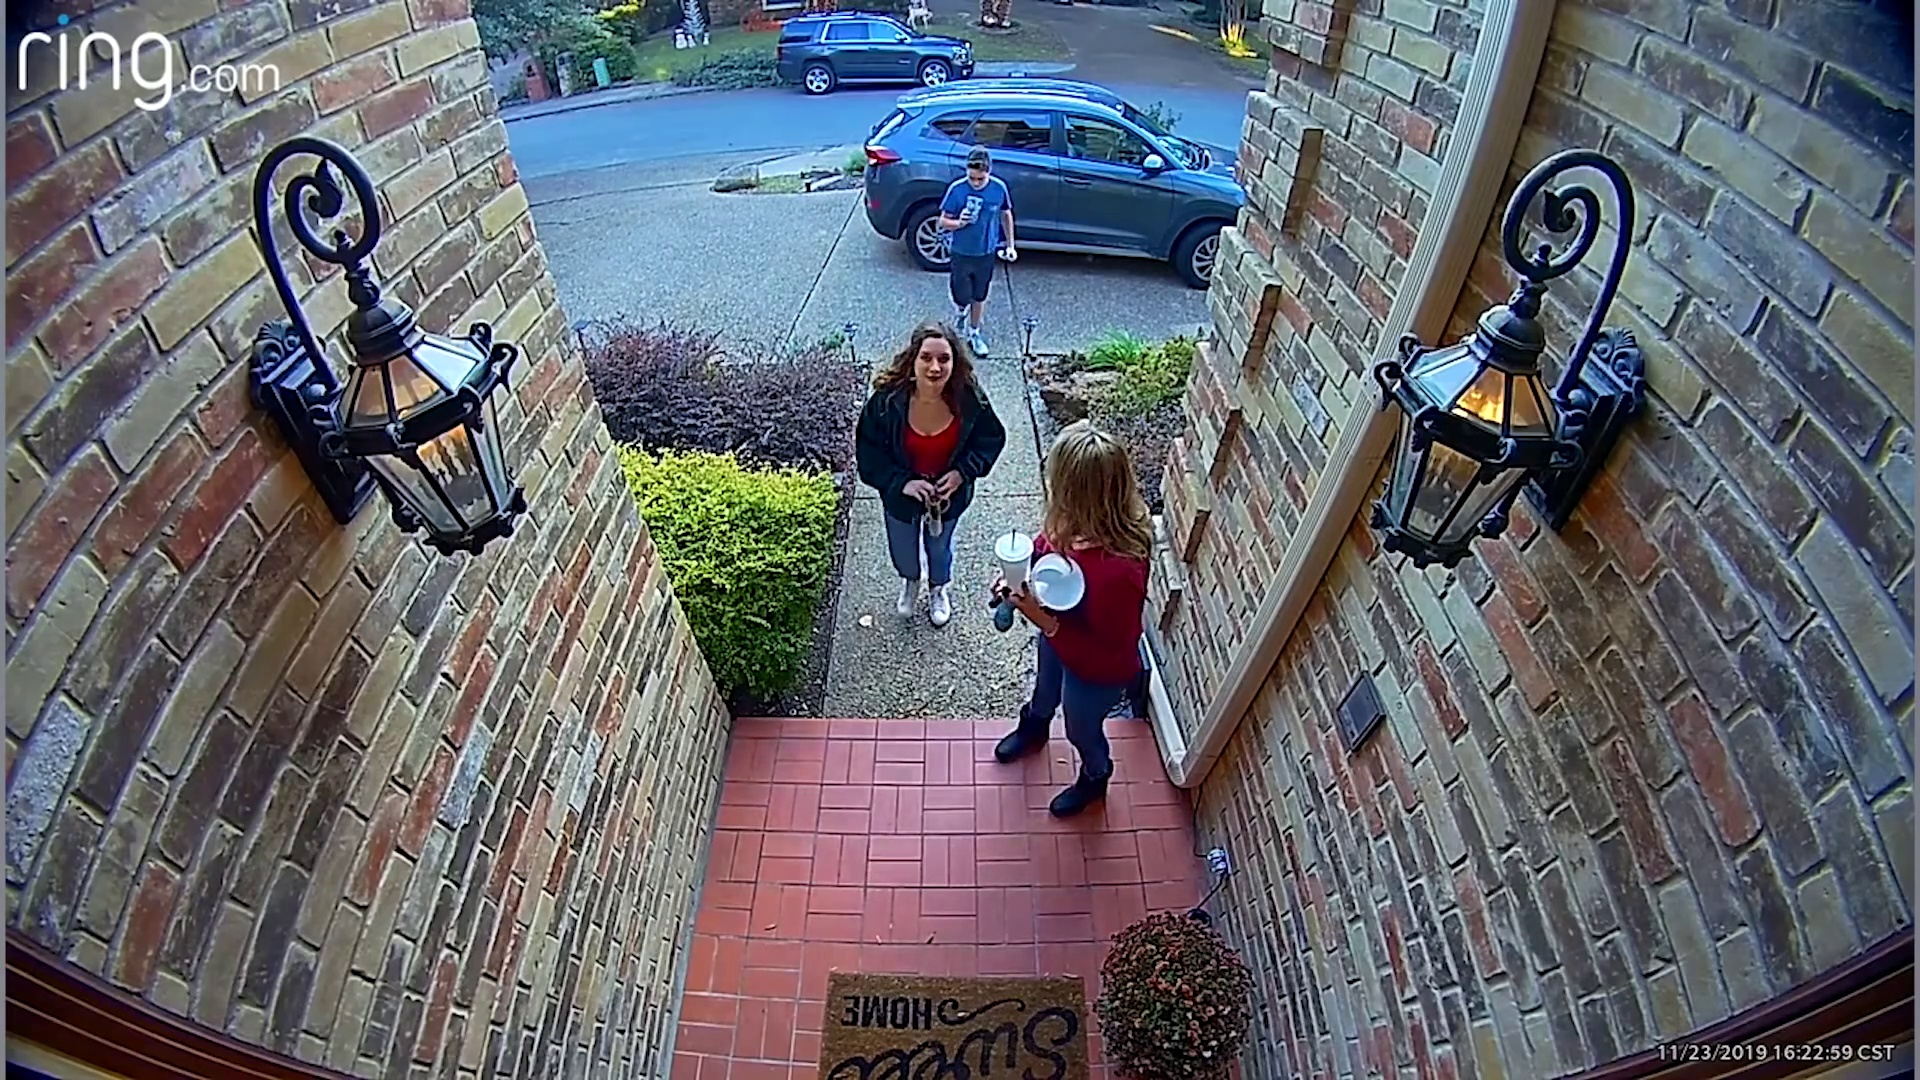face: (912, 342, 958, 387), (965, 164, 990, 190)
